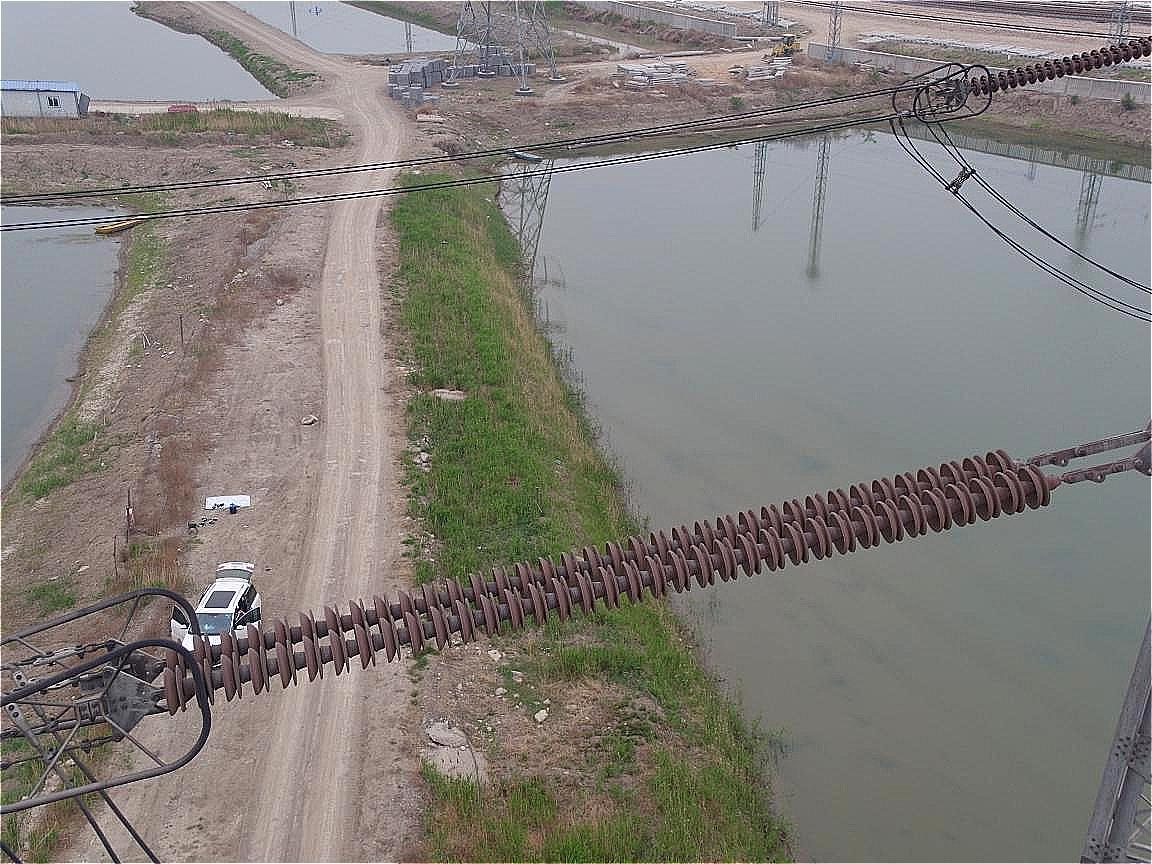insultor2: (148, 447, 1078, 723)
